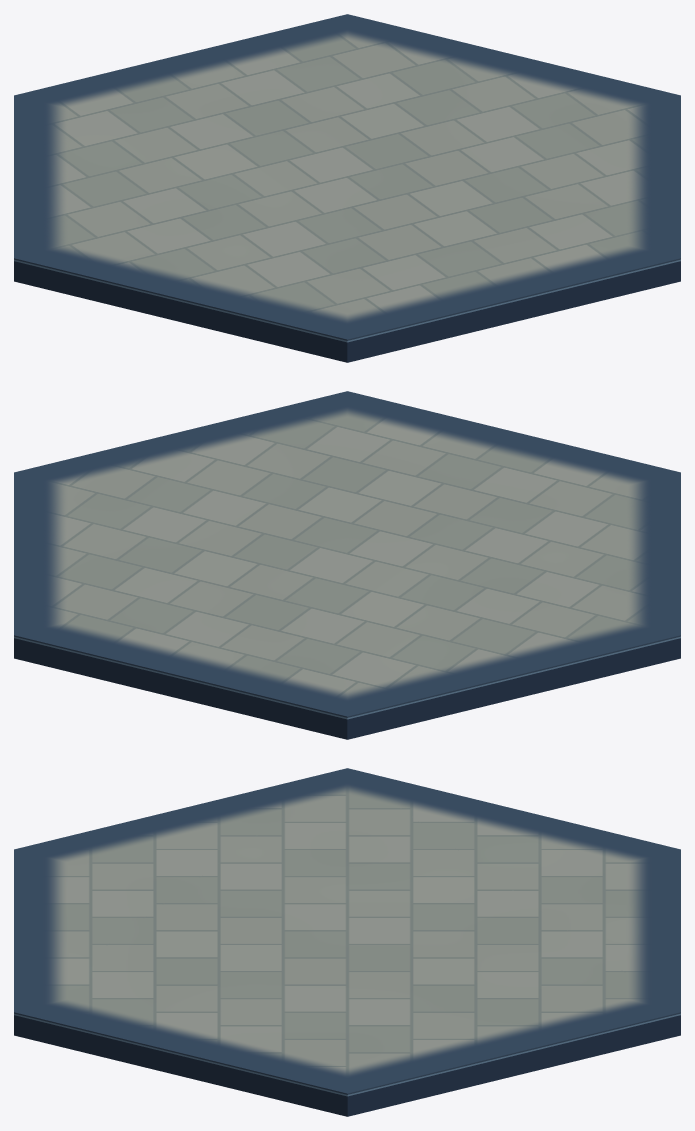
The model's file is campus_tile_civic_v01.glb.
The picture shows the model from 3 angles, top to bottom: view 1: azimuth 30°, elevation 25°; view 2: azimuth 150°, elevation 25°; view 3: azimuth 270°, elevation 25°; orthographic projection.
Visible parts, largest first — view 1: campus_tile_civic; view 2: campus_tile_civic; view 3: campus_tile_civic.
Part boxes in pixels (x1=…): campus_tile_civic: x1=14, y1=14, x2=680, y2=362; campus_tile_civic: x1=14, y1=391, x2=680, y2=739; campus_tile_civic: x1=14, y1=768, x2=680, y2=1116.
Bounding box in the file's own units: 36 × 1.2 × 31.18.
1 material, 1 textured.
